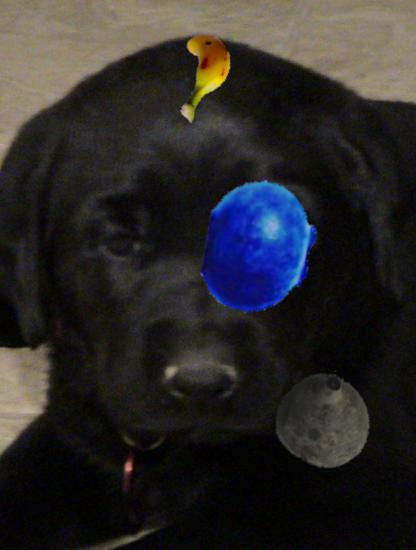Banana: (161, 36, 239, 114)
Beetroot: (269, 355, 383, 469)
Huckleberry: (192, 180, 328, 316)
